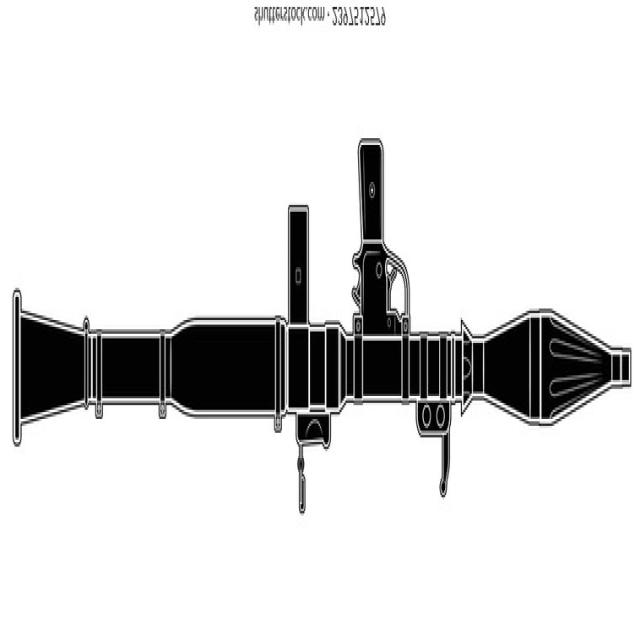Gun: (20, 99, 640, 562)
